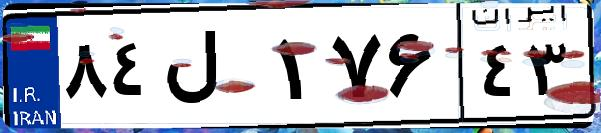1: (270, 28, 330, 110)
3: (525, 38, 570, 115)
4: (475, 38, 525, 113), (110, 28, 158, 98)
6: (385, 28, 445, 110)
7: (330, 28, 385, 110)
8: (57, 26, 110, 100)
ل: (158, 20, 270, 120)
